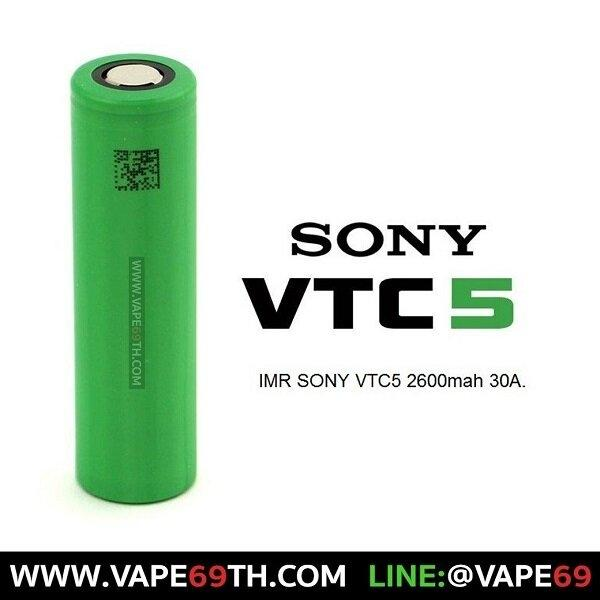Battery: (63, 46, 206, 509)
